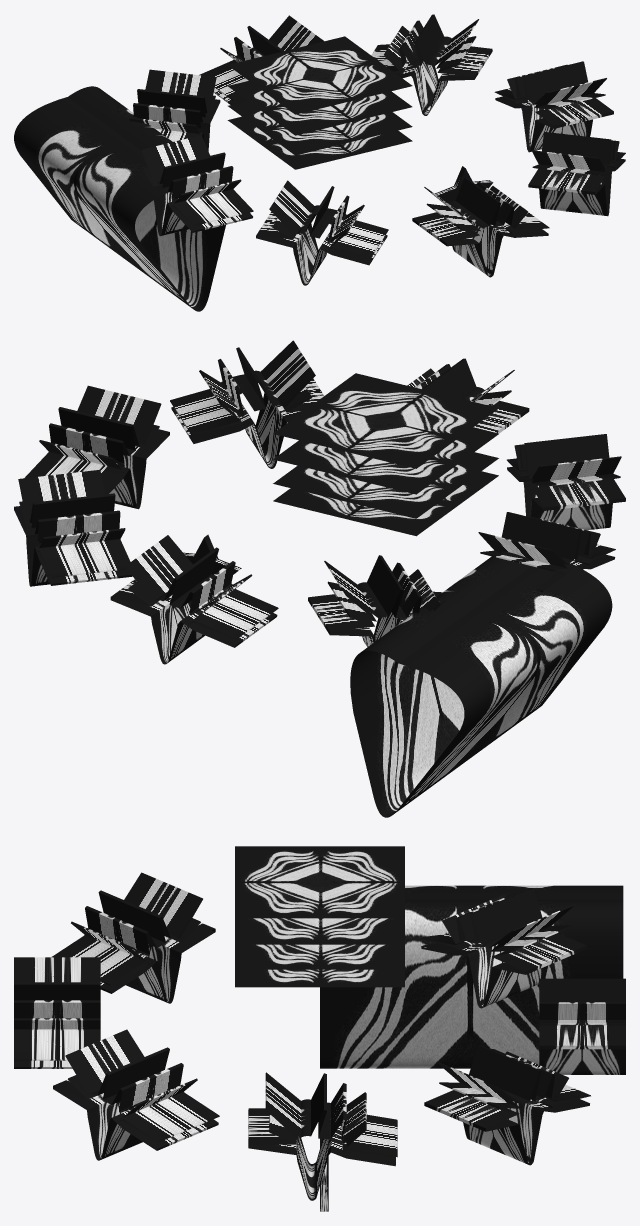
3 renders of one model, top to bottom at view 1: azimuth 30°, elevation 25°; view 2: azimuth 150°, elevation 25°; view 3: azimuth 270°, elevation 25°, orthographic. The views are drawn at different scales.
Visible parts, largest first — view 1: Extrude_NURBS, no_alpha (×4), no_alpha.2, no_alpha.3, no_alpha.4, no_alpha.5, no_alpha.6, no_alpha.7, no_alpha.1, no_alpha.8; view 2: Extrude_NURBS, no_alpha (×4), no_alpha.8, no_alpha.7, no_alpha.6, no_alpha.5, no_alpha.3, no_alpha.1, no_alpha.2, no_alpha.4; view 3: Extrude_NURBS, no_alpha (×4), no_alpha.5, no_alpha.3, no_alpha.7, no_alpha.1, no_alpha.6, no_alpha.4, no_alpha.8.
Boxes of the visible parts, x1,y1,x2,y2 form: Extrude_NURBS: [14, 86, 225, 311]; no_alpha (×4): [227, 36, 412, 169]; no_alpha.2: [134, 135, 253, 236]; no_alpha.3: [256, 180, 388, 285]; no_alpha.4: [412, 177, 549, 277]; no_alpha.5: [528, 132, 625, 216]; no_alpha.6: [494, 61, 613, 152]; no_alpha.7: [371, 14, 492, 115]; no_alpha.1: [129, 69, 220, 150]; no_alpha.8: [199, 15, 323, 104]; Extrude_NURBS: [350, 551, 612, 817]; no_alpha (×4): [273, 373, 498, 536]; no_alpha.8: [110, 535, 278, 664]; no_alpha.7: [14, 470, 132, 586]; no_alpha.6: [24, 385, 169, 509]; no_alpha.5: [170, 340, 324, 468]; no_alpha.3: [507, 434, 625, 530]; no_alpha.1: [308, 555, 442, 674]; no_alpha.2: [478, 512, 615, 592]; no_alpha.4: [407, 358, 529, 433]; Extrude_NURBS: [320, 885, 623, 1068]; no_alpha (×4): [235, 846, 404, 987]; no_alpha.5: [53, 1029, 219, 1160]; no_alpha.3: [51, 872, 215, 1003]; no_alpha.7: [424, 1045, 590, 1165]; no_alpha.1: [420, 888, 586, 1008]; no_alpha.6: [248, 1072, 397, 1200]; no_alpha.4: [14, 957, 100, 1068]; no_alpha.8: [539, 978, 625, 1074].
Bounding box in the file's own units: 1533 × 672 × 1438.
Materials: 1 (1 with a texture image).
